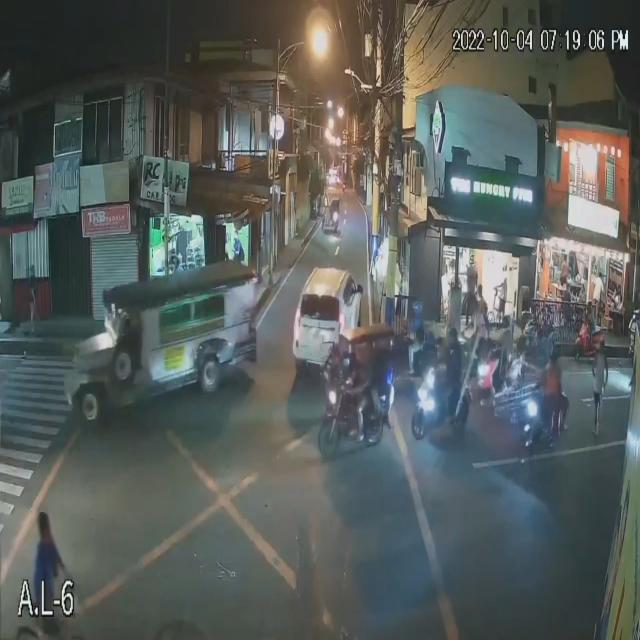Full-Faced: (542, 336, 566, 364), (442, 323, 462, 353)
